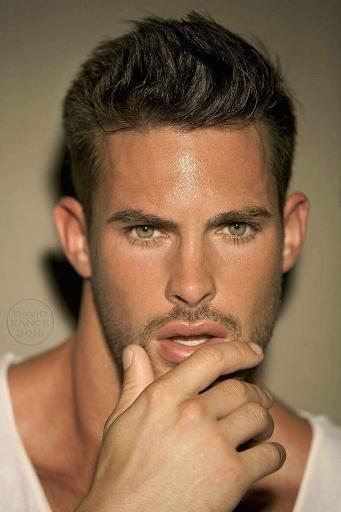left_eye: (215, 217, 261, 242)
left_lip_corner: (211, 329, 232, 350)
right_eye: (120, 219, 172, 243)
right_lip_corner: (155, 329, 173, 349)
